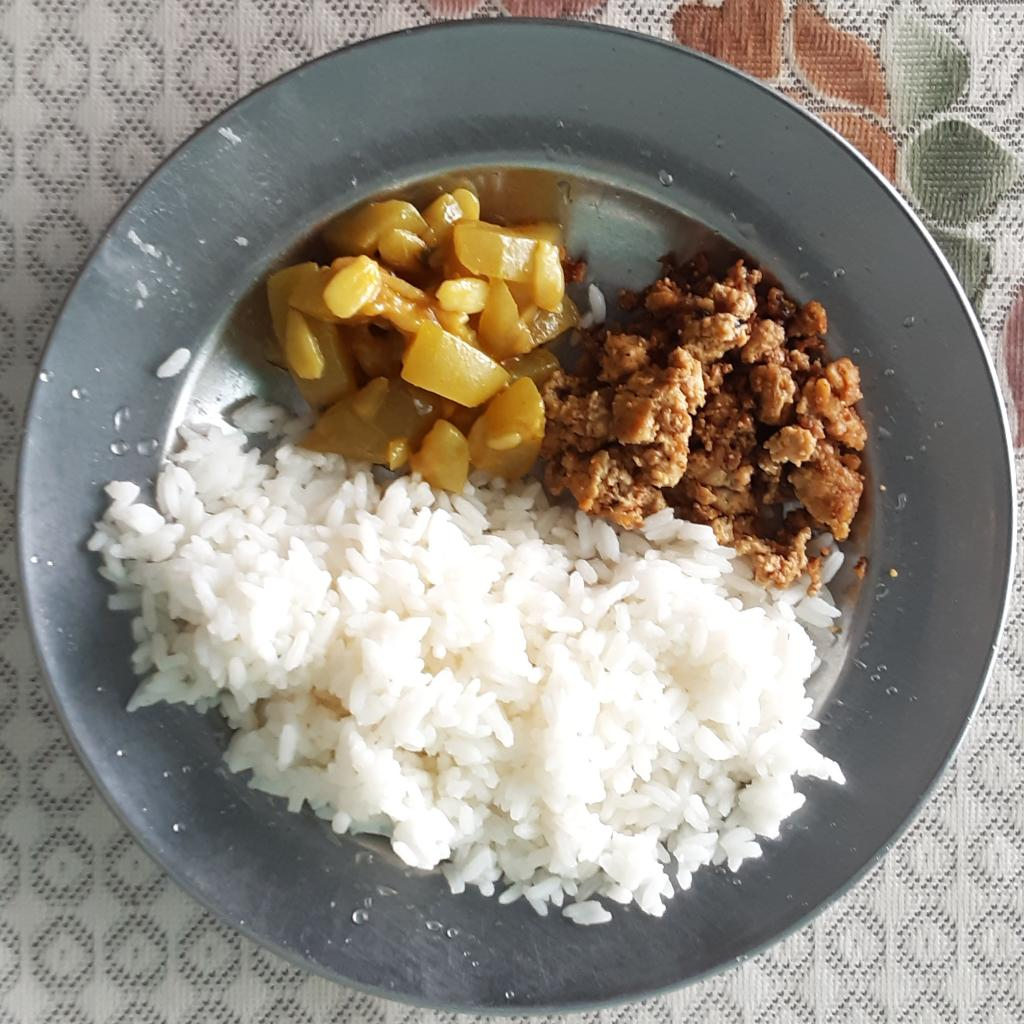fish: (535, 254, 867, 600)
lau: (265, 181, 581, 494)
rice: (83, 391, 845, 929)
